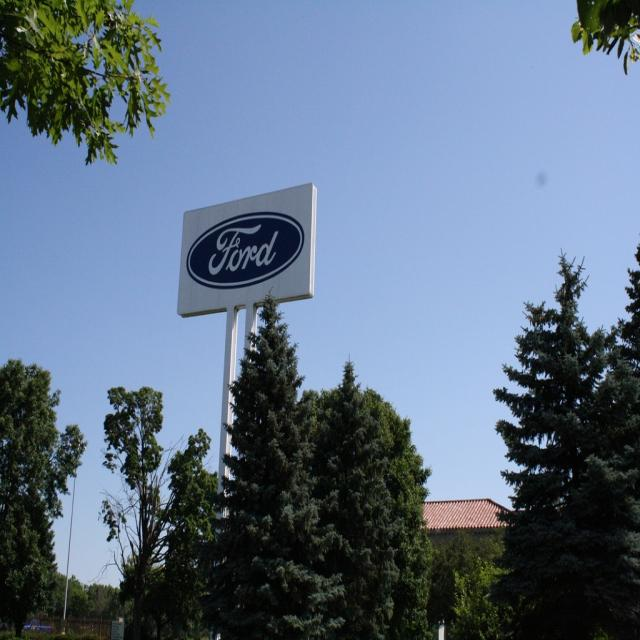ford: (186, 212, 305, 291)
